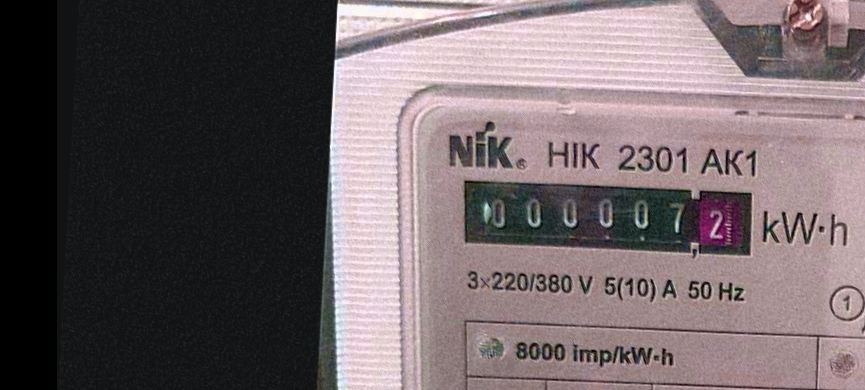0: (556, 191, 581, 230), (485, 192, 509, 228), (628, 193, 651, 230), (594, 193, 616, 231), (522, 192, 544, 228)
2: (704, 204, 727, 241)
7: (664, 196, 687, 235)
screen: (454, 167, 762, 264)
